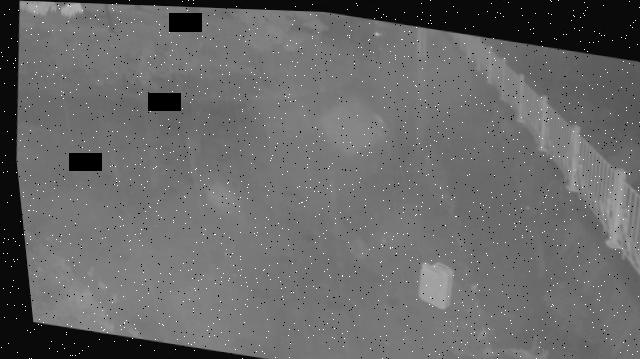bag: (408, 255, 451, 306)
